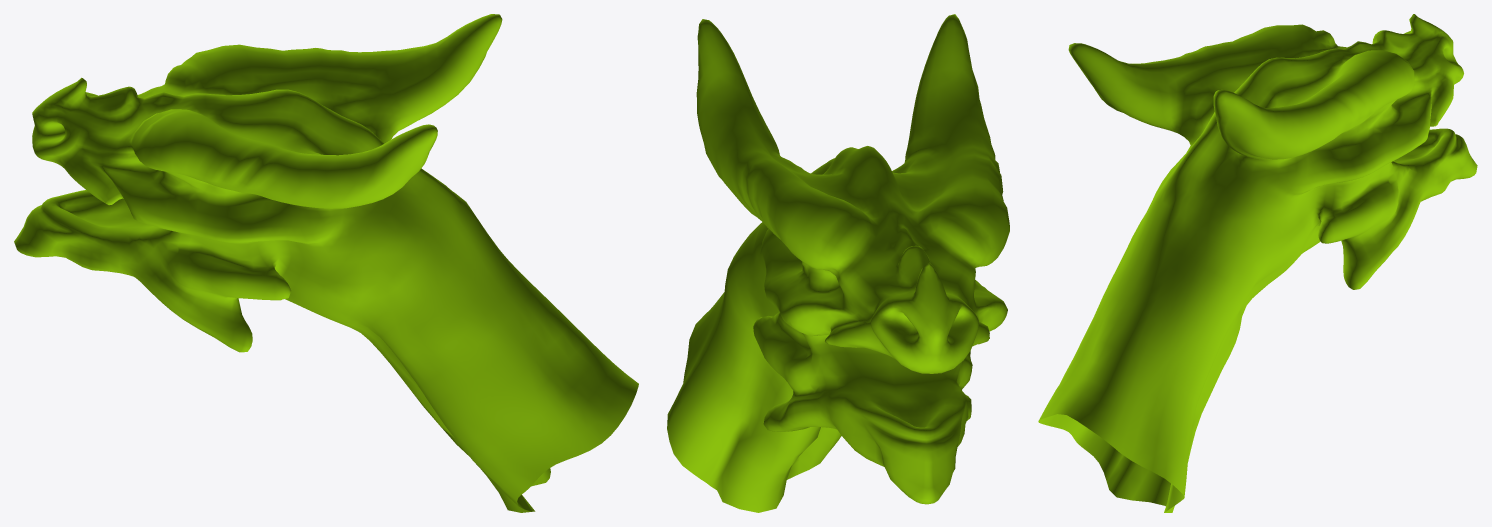
File: Cabeza2.obj
3 renders of one model, left to right at view 1: azimuth 30°, elevation 25°; view 2: azimuth 150°, elevation 25°; view 3: azimuth 270°, elevation 25°, orthographic. The views are drawn at different scales.
Parts seen in each view (by area): view 1: Cabeza2; view 2: Cabeza2; view 3: Cabeza2.
Boxes of the visible parts, x1,y1,x2,y2 form: Cabeza2: (14, 14, 638, 512); Cabeza2: (667, 14, 1009, 512); Cabeza2: (1038, 14, 1477, 512).
Size of the model in its own units: 1.93 by 2.02 by 1.9.
Materials: 1 (1 with a texture image).
